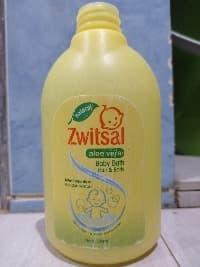Plastik: (44, 3, 161, 264)
